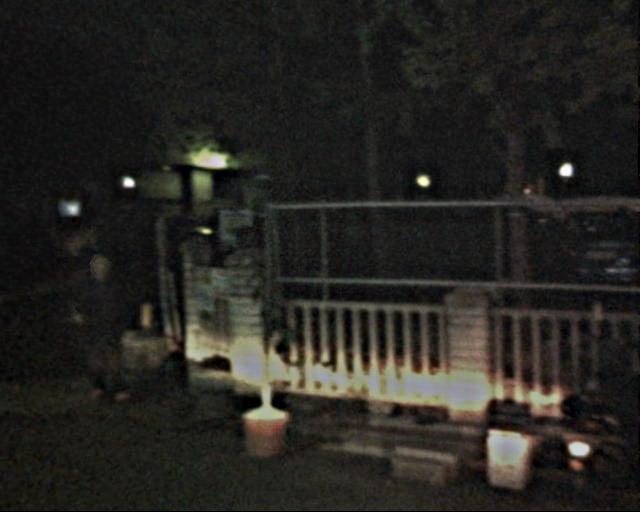person: (75, 238, 135, 406)
